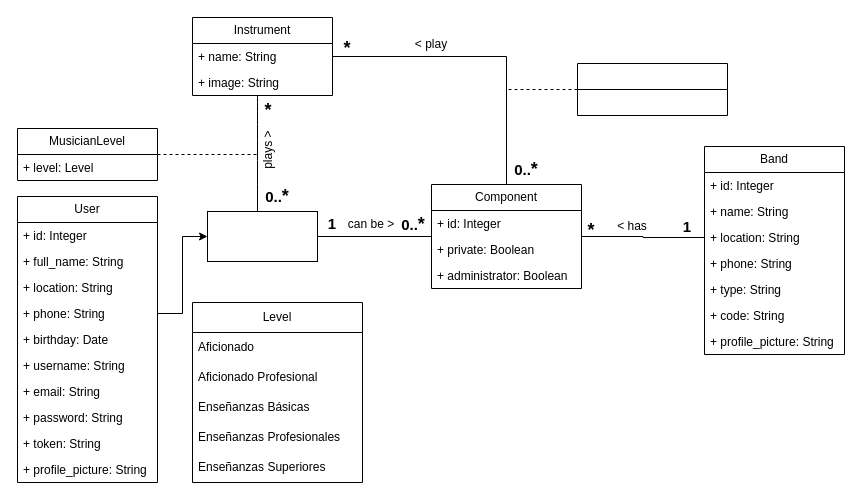
The diagram is 862 pixels wide and 503 high, and some of its shapes have lost their labels. The centre of each missing label's shape, as x and y in pixels:
"InstrumentComponent" belongs at point (652, 89).
"Musician" belongs at point (262, 236).
